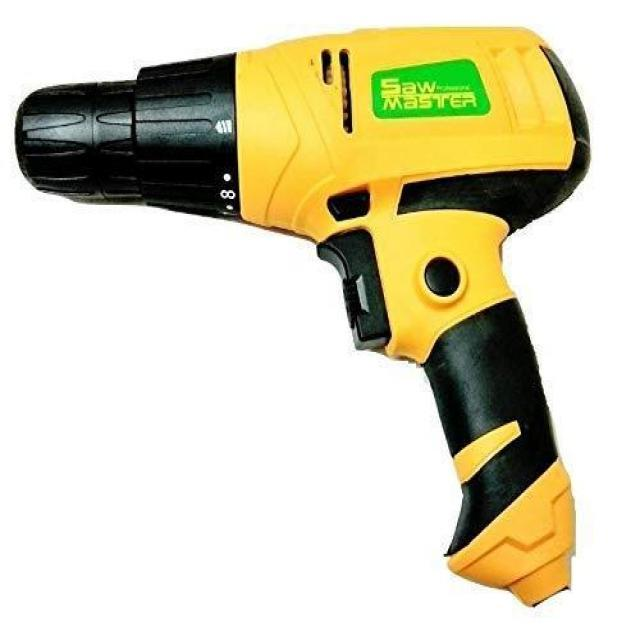drill: (14, 26, 594, 610)
